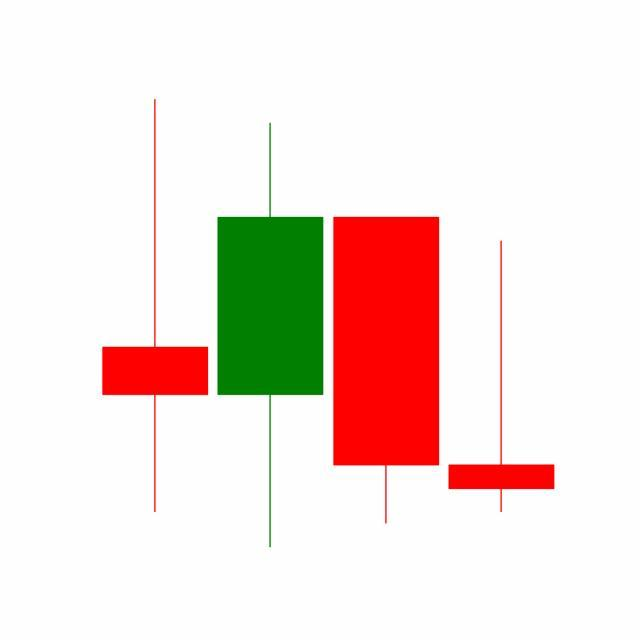Gravestone Doji: (444, 239, 560, 517)
